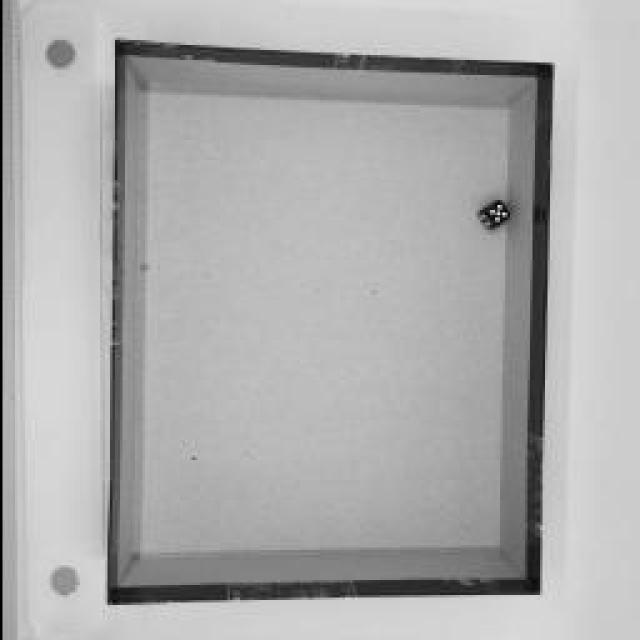dice_5: (475, 200, 507, 230)
